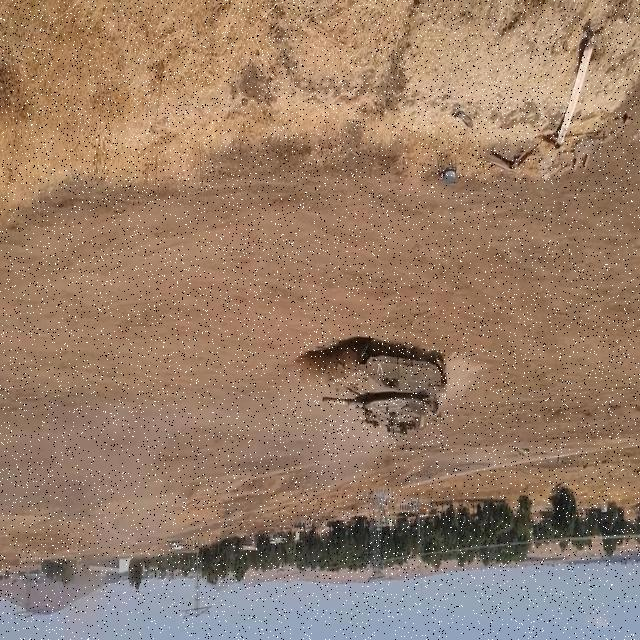MIL_MBT: (313, 335, 452, 453)
